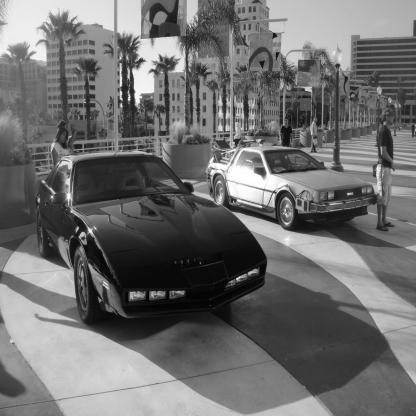car: (28, 138, 275, 352), (192, 136, 376, 234)
